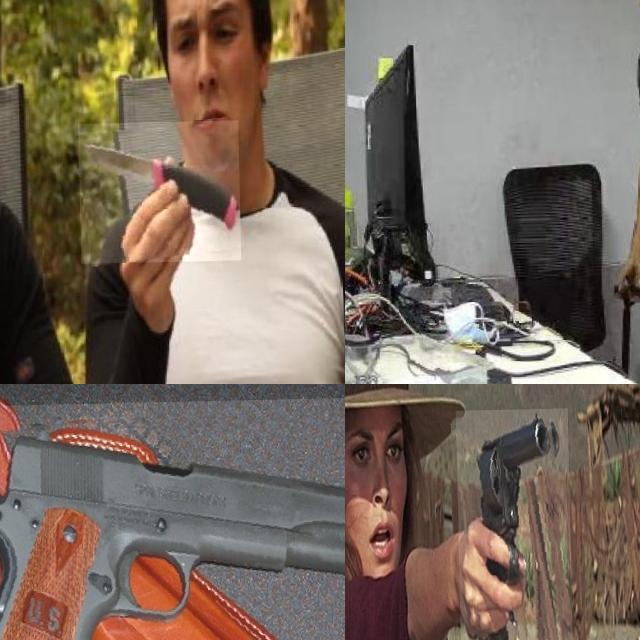-: (77, 122, 239, 266)
gun-knife-thesis - v11 Yolov5 augmented: (0, 399, 345, 640), (454, 410, 570, 640)
